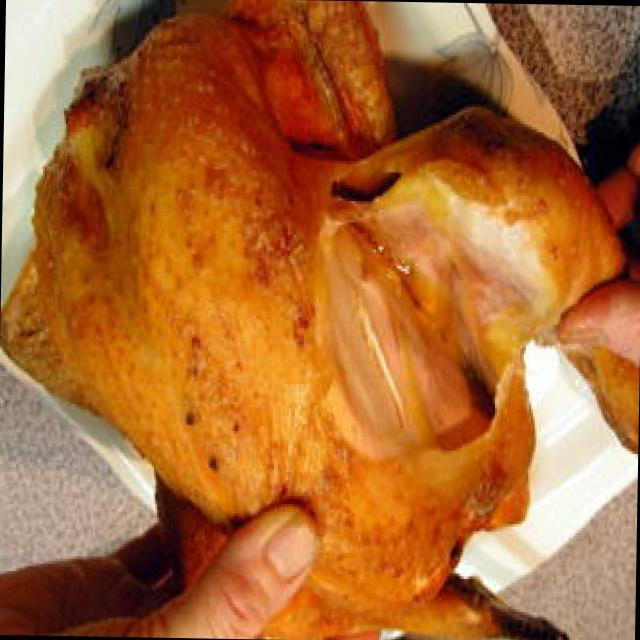Chicken: (0, 0, 578, 587)
Finger: (178, 503, 321, 639)
